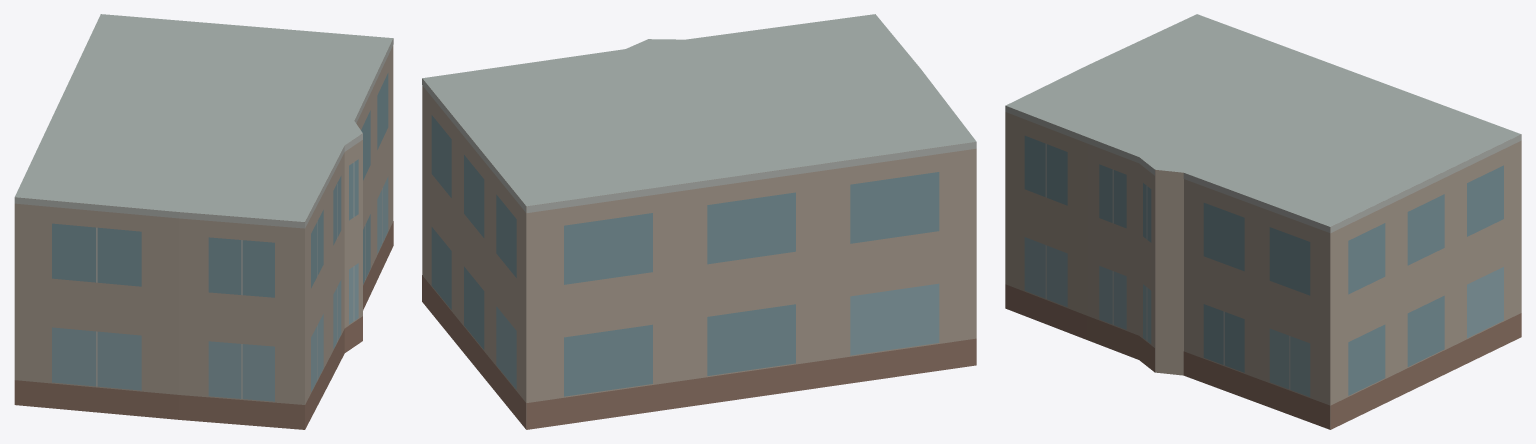
Rendered from survey-upis-32625102.glb.
3 views of the same model, side by side, from view 1: azimuth 30°, elevation 25°; view 2: azimuth 150°, elevation 25°; view 3: azimuth 270°, elevation 25° (orthographic). The views are drawn at different scales.
Parts seen in each view (by area): view 1: survey-upis-32625102.tmp; view 2: survey-upis-32625102.tmp; view 3: survey-upis-32625102.tmp.
Boxes of the visible parts, bbox=[...] form: survey-upis-32625102.tmp: bbox=[14, 14, 393, 429]; survey-upis-32625102.tmp: bbox=[422, 14, 976, 429]; survey-upis-32625102.tmp: bbox=[1005, 14, 1521, 429].
Size of the model in its own units: 17.8 by 7.9 by 18.22.
